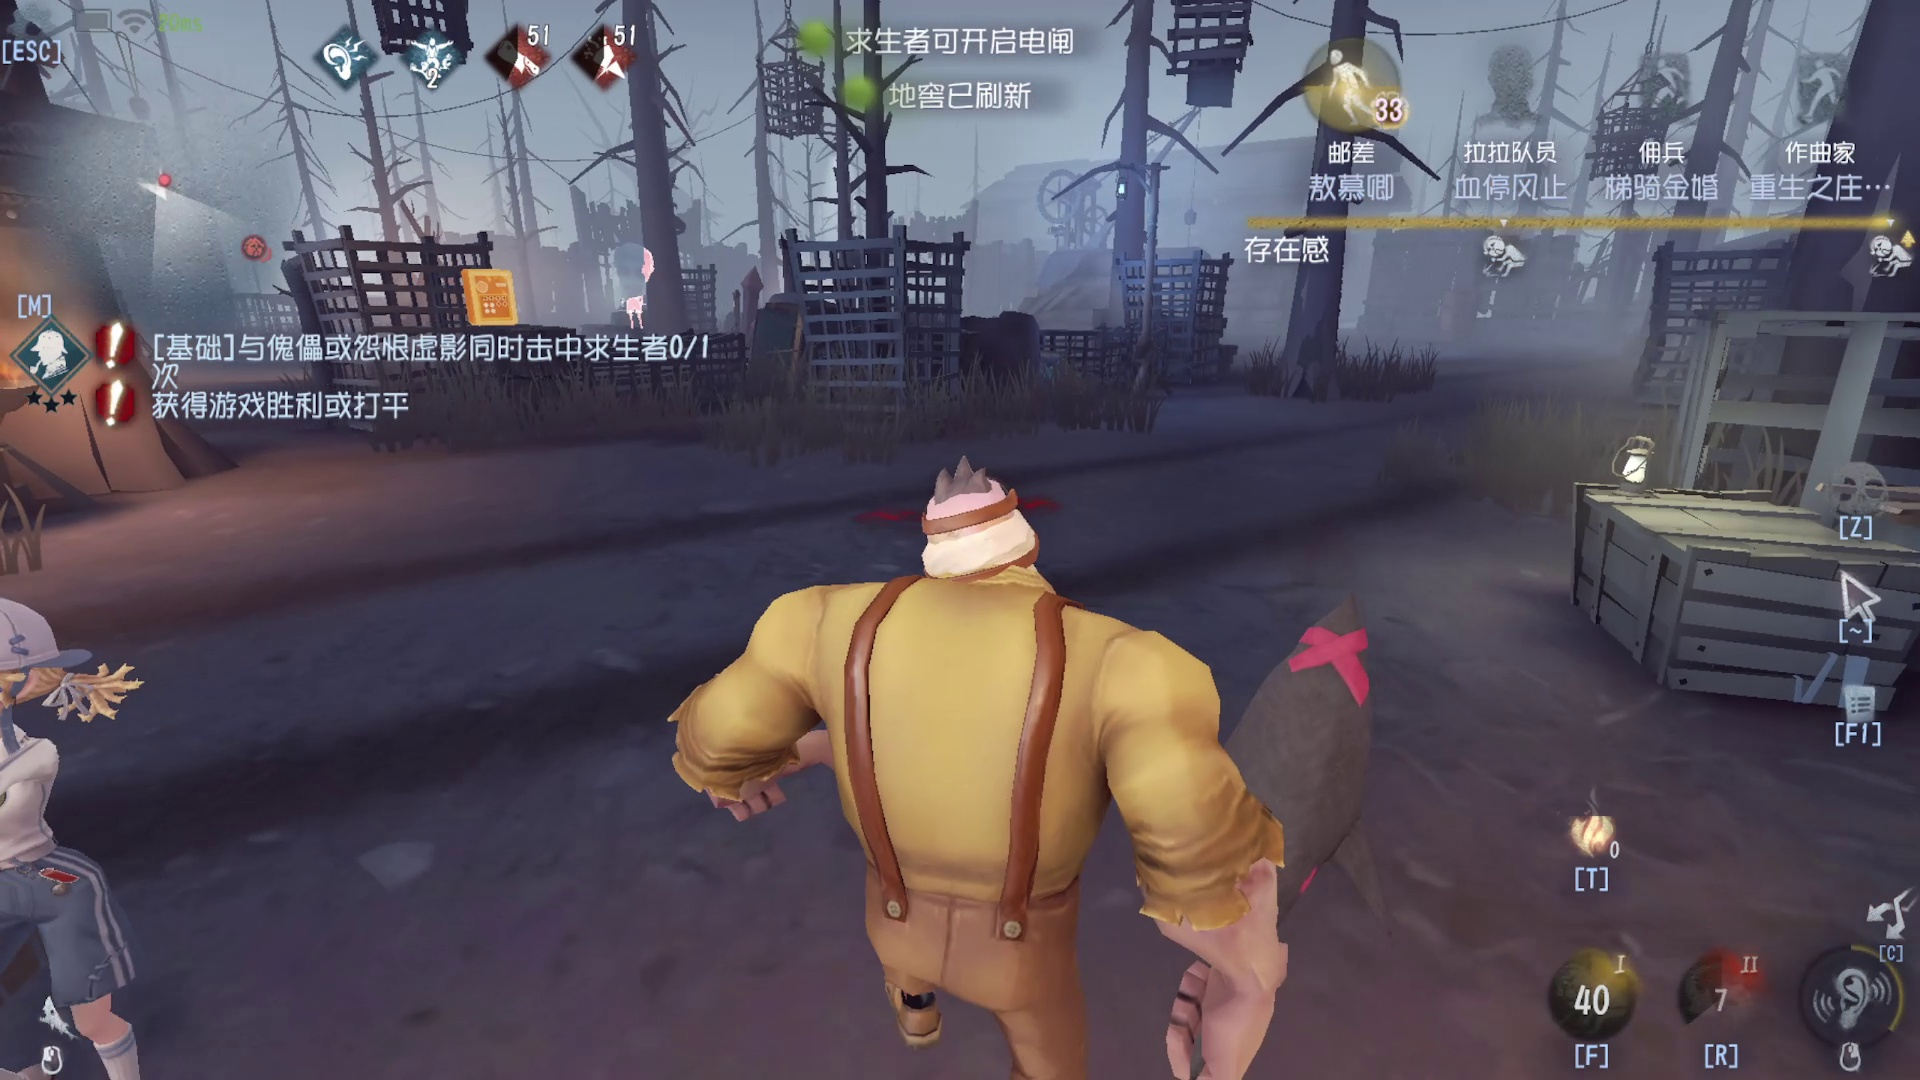求生者: (1, 559, 353, 1064)
设置: (1, 3, 63, 82)
